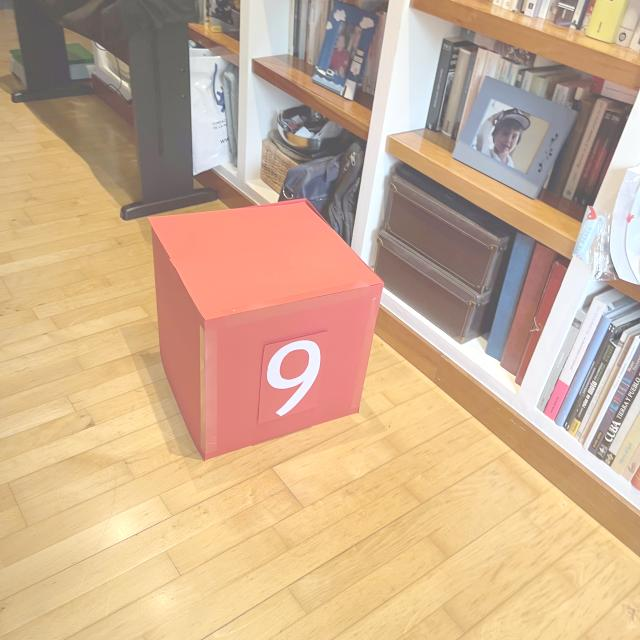box: (143, 195, 386, 461)
